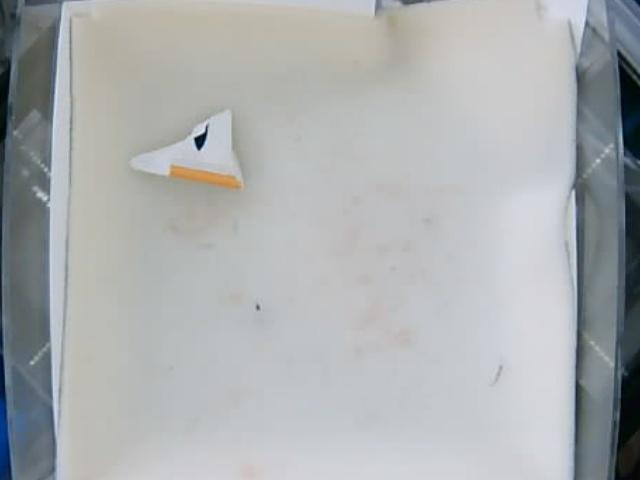China: (124, 108, 247, 187)
